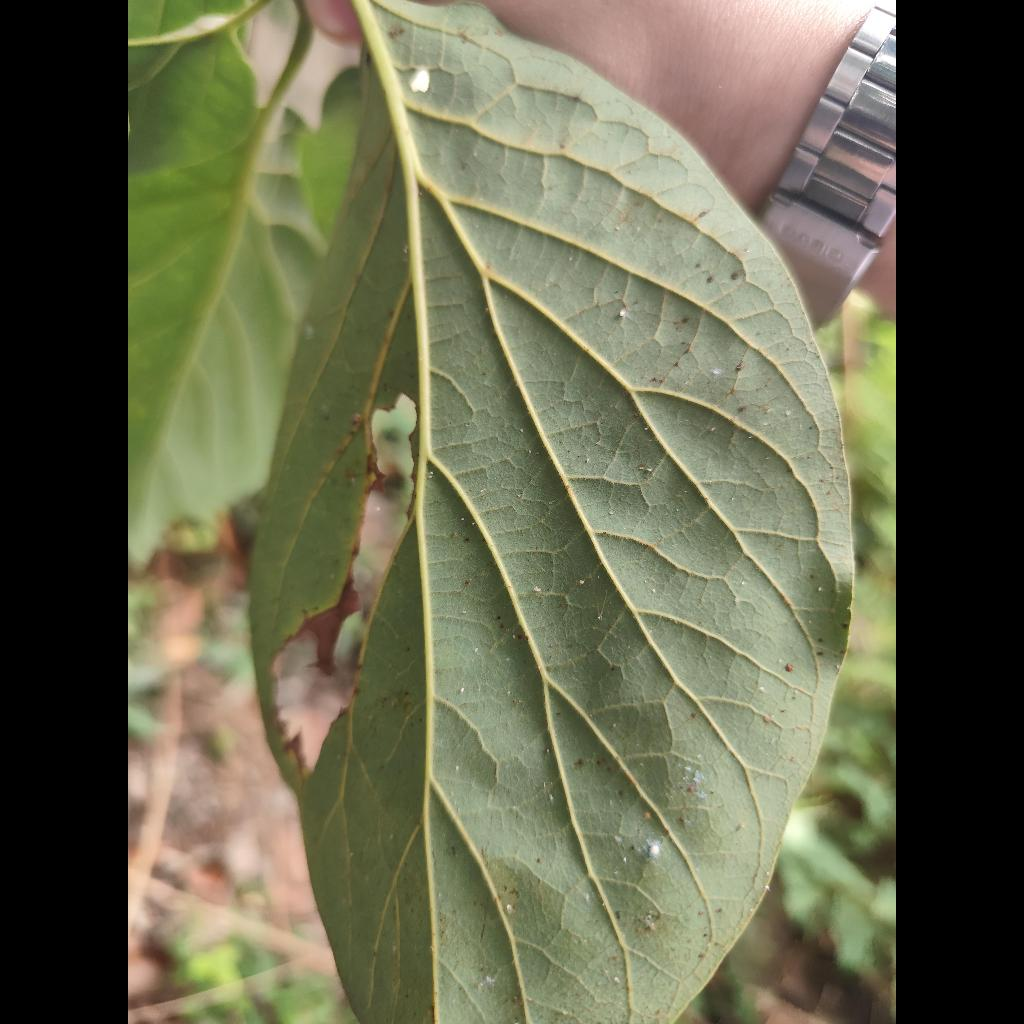Pest Infested: (252, 0, 851, 1024)
